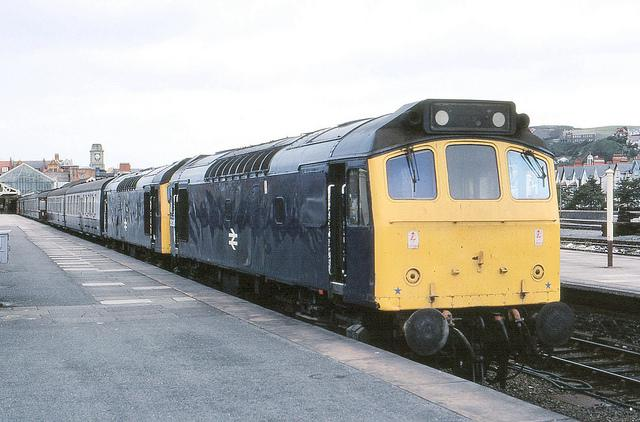Train: (19, 101, 563, 397)
